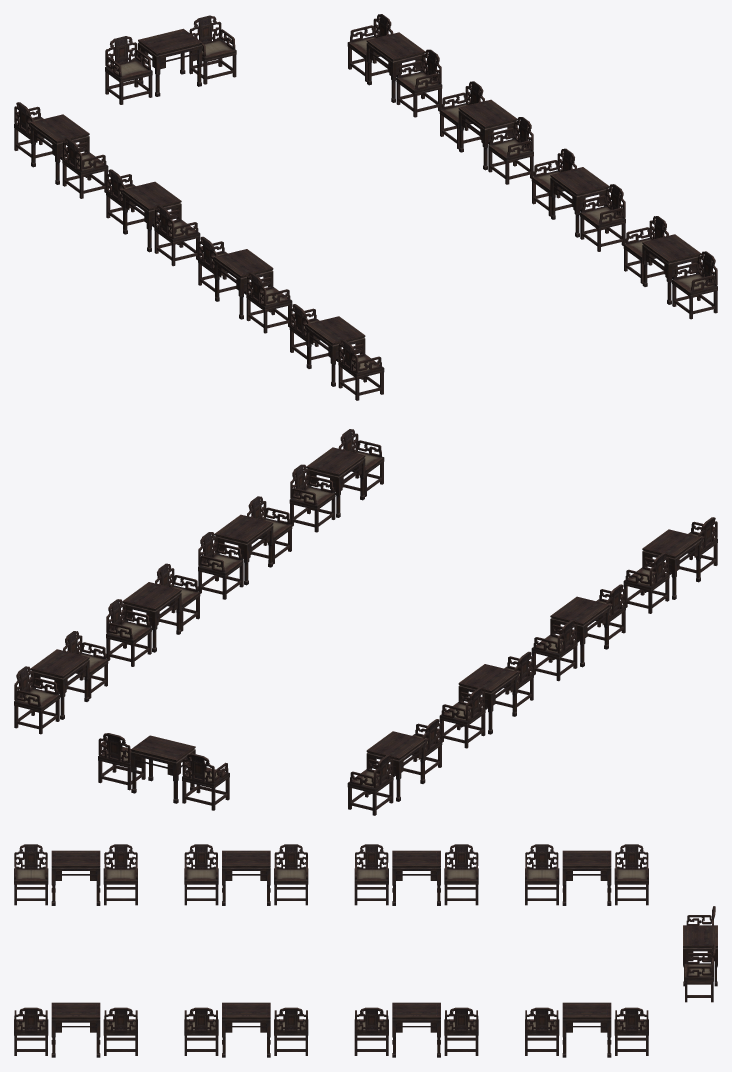
File: Chairs.fbx
3 views of the same model, one above another, from view 1: azimuth 30°, elevation 25°; view 2: azimuth 150°, elevation 25°; view 3: azimuth 270°, elevation 25° (orthographic). The views are drawn at different scales.
Parts seen in each view (by area): view 1: zuo_yi_01, zuo_yi_05, zuo_yi_04, zuo_yi_02, zuo_yi_03, zuo_yi_09, zuo_yi_07, zuo_yi_08, zuo_yi_06; view 2: zuo_yi_01, zuo_yi_02, zuo_yi_03, zuo_yi_05, zuo_yi_04, zuo_yi_06, zuo_yi_08, zuo_yi_07, zuo_yi_09; view 3: zuo_yi_09, zuo_yi_06, zuo_yi_07, zuo_yi_08, zuo_yi_05, zuo_yi_02, zuo_yi_03, zuo_yi_04, zuo_yi_01.
Part boxes in pixels (x1,y1,x2,y2): zuo_yi_01: (105,15,236,104); zuo_yi_05: (623,216,717,319); zuo_yi_04: (531,148,625,251); zuo_yi_02: (347,14,442,117); zuo_yi_03: (439,81,533,184); zuo_yi_09: (289,304,384,400); zuo_yi_07: (106,169,200,266); zuo_yi_08: (198,236,292,333); zuo_yi_06: (14,102,108,198); zuo_yi_01: (98,733,229,810); zuo_yi_02: (14,631,108,734); zuo_yi_03: (106,563,200,666); zuo_yi_05: (289,429,384,532); zuo_yi_04: (198,496,292,599); zuo_yi_06: (347,719,442,815); zuo_yi_08: (531,584,625,681); zuo_yi_07: (439,651,533,748); zuo_yi_09: (623,517,717,613); zuo_yi_09: (14,844,137,905); zuo_yi_06: (525,844,648,905); zuo_yi_07: (354,844,478,905); zuo_yi_08: (184,844,308,905); zuo_yi_05: (14,1002,137,1057); zuo_yi_02: (525,1002,648,1057); zuo_yi_03: (354,1002,478,1057); zuo_yi_04: (184,1002,308,1057); zuo_yi_01: (683,906,717,1002).
Size of the model in its own units: 249 by 33.74 by 445.
Materials: 1 (1 with a texture image).
